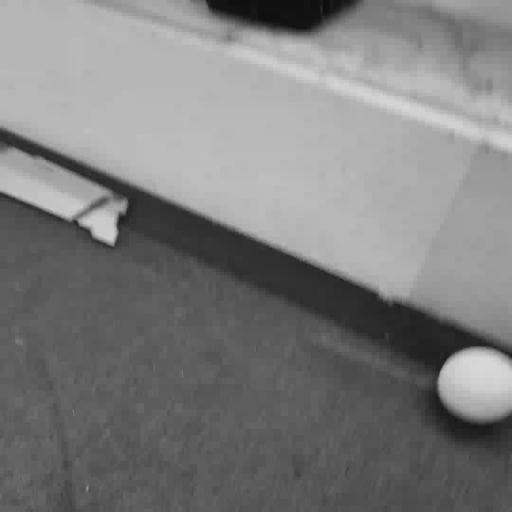fuel: (437, 347, 511, 424)
